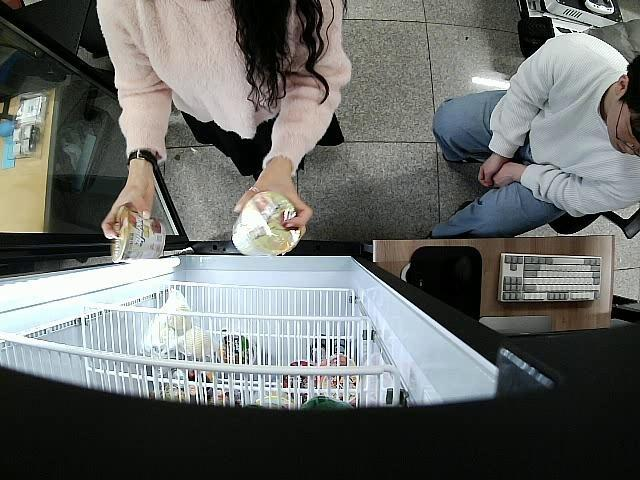04_chapagetti_S: (227, 191, 300, 258), (106, 205, 166, 264)
